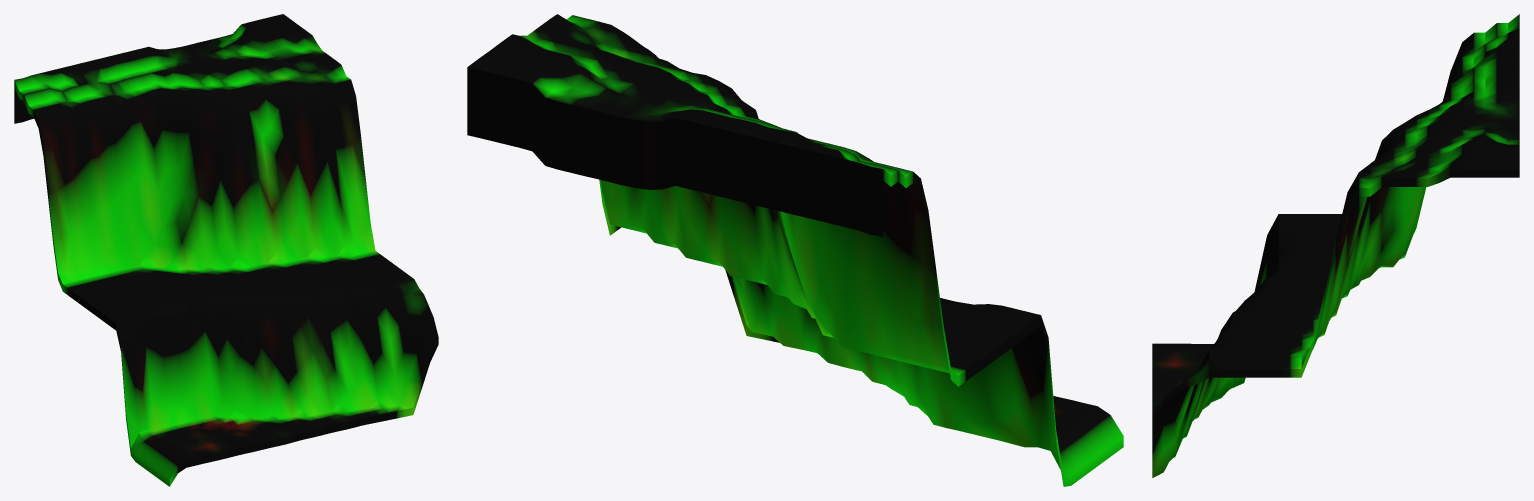
Rendered from Terrain_00_03.fbx.
The picture shows the model from 3 angles, left to right: view 1: azimuth 30°, elevation 25°; view 2: azimuth 150°, elevation 25°; view 3: azimuth 270°, elevation 25°; orthographic projection. The views are drawn at different scales.
Parts seen in each view (by area): view 1: Terrain_00_03_LOD0; view 2: Terrain_00_03_LOD0; view 3: Terrain_00_03_LOD0.
Part boxes in pixels (x1,y1,x2,y2): Terrain_00_03_LOD0: [14, 14, 438, 486]; Terrain_00_03_LOD0: [467, 14, 1123, 486]; Terrain_00_03_LOD0: [1152, 14, 1519, 477].
Size of what is drawn, in the model's own units: 384 by 401 by 384.
